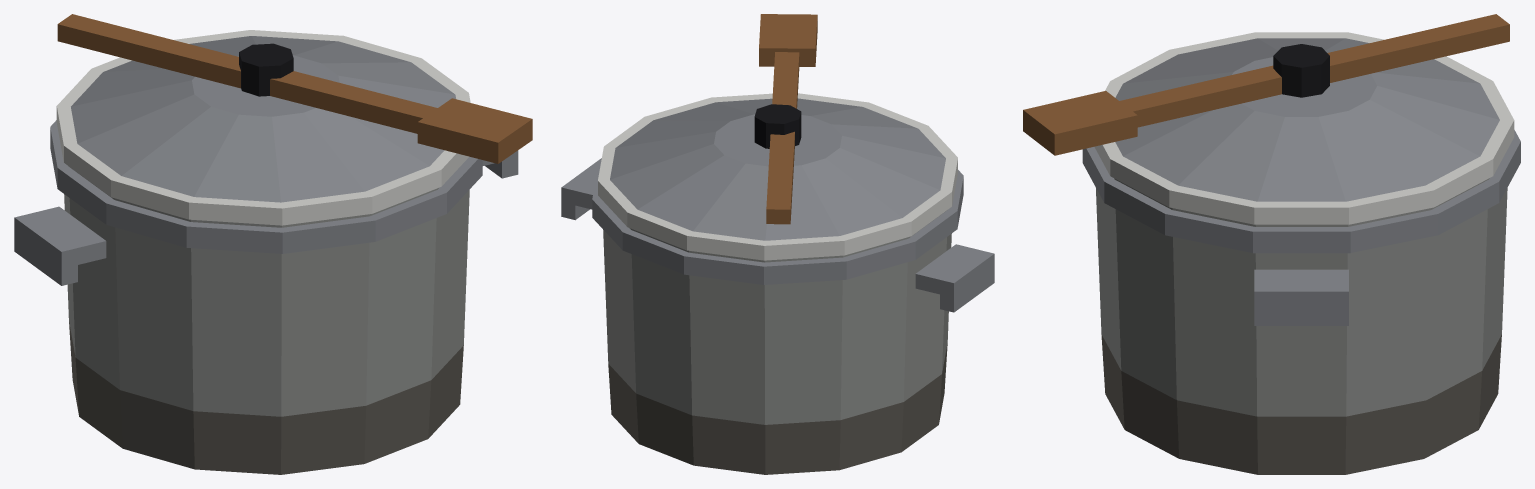
File: prop_big-pot.glb
3 renders of one model, left to right at view 1: azimuth 30°, elevation 25°; view 2: azimuth 150°, elevation 25°; view 3: azimuth 270°, elevation 25°, orthographic. The views are drawn at different scales.
Visible parts, largest first — view 1: body; view 2: body; view 3: body.
Part boxes in pixels (bbox=[...]): body: bbox=[14, 14, 532, 474]; body: bbox=[561, 14, 994, 474]; body: bbox=[1023, 14, 1520, 474].
Size of the model in its own units: 0.56 by 0.395 by 0.5269.
